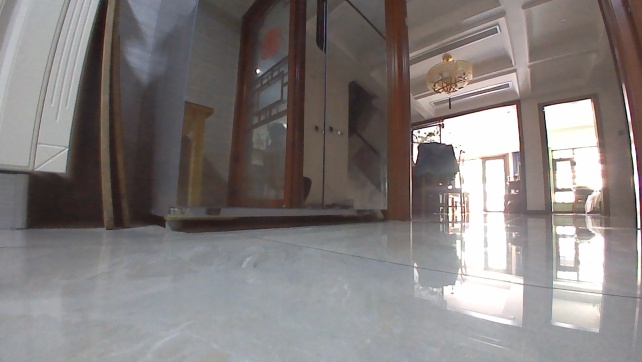door_anno: (220, 0, 310, 213)
